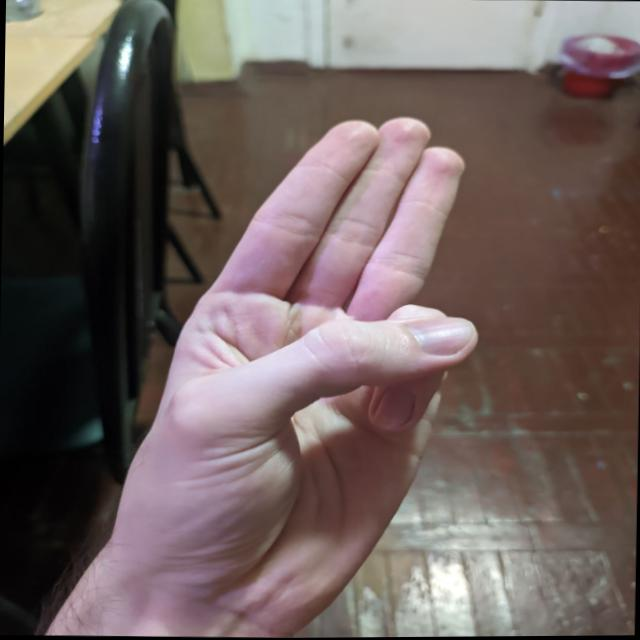sh: (210, 75, 488, 614)
